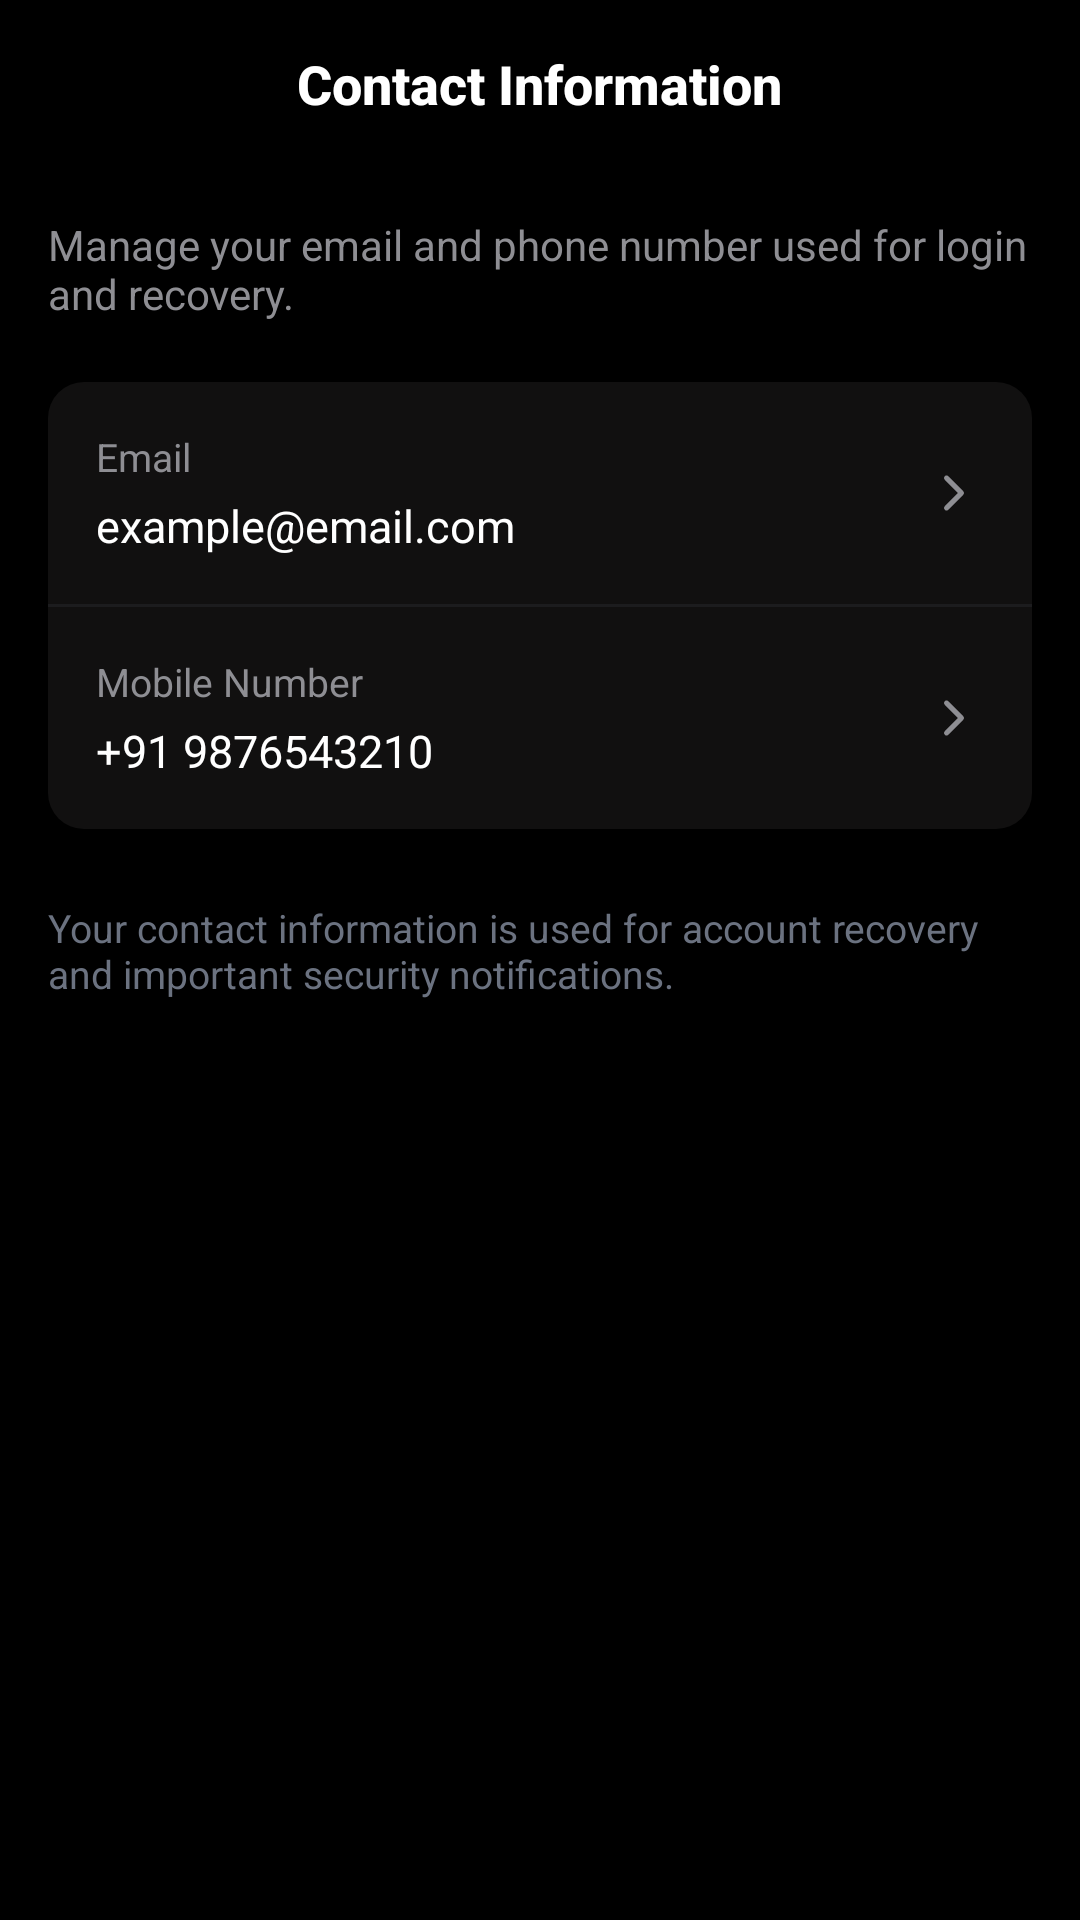

Icon bounding boxes for this 1080px x 1920px phone screenshot, format detection(x1, y1, x2, y2):
chevron right: detection(944, 475, 964, 511), detection(944, 700, 964, 736)
